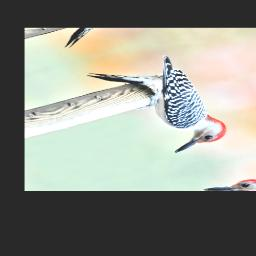Woodpecker: (74, 44, 246, 165)
